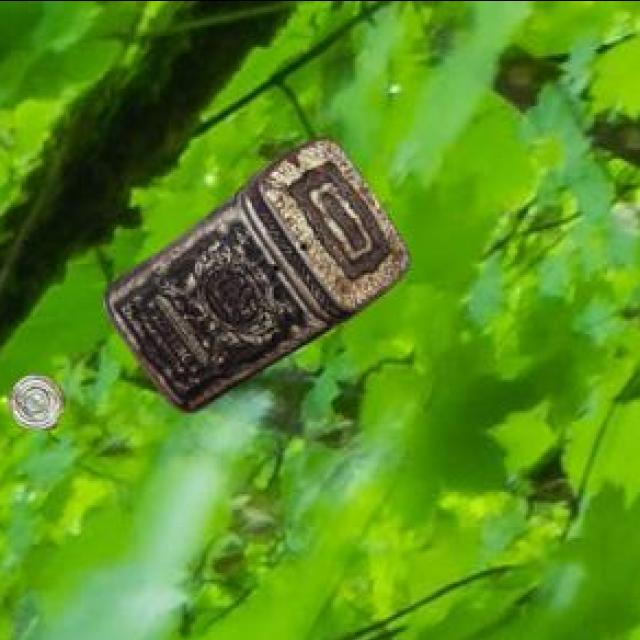logam: (102, 133, 407, 409), (5, 369, 62, 426)
